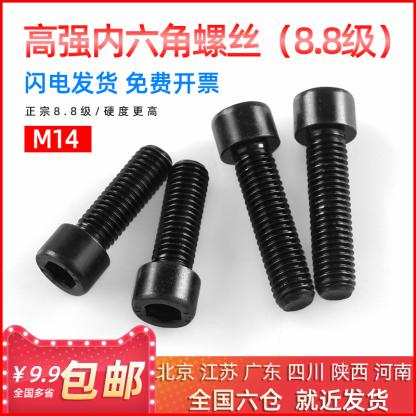FOD: (209, 98, 314, 313), (33, 143, 174, 299), (293, 82, 360, 303), (130, 158, 210, 328)
